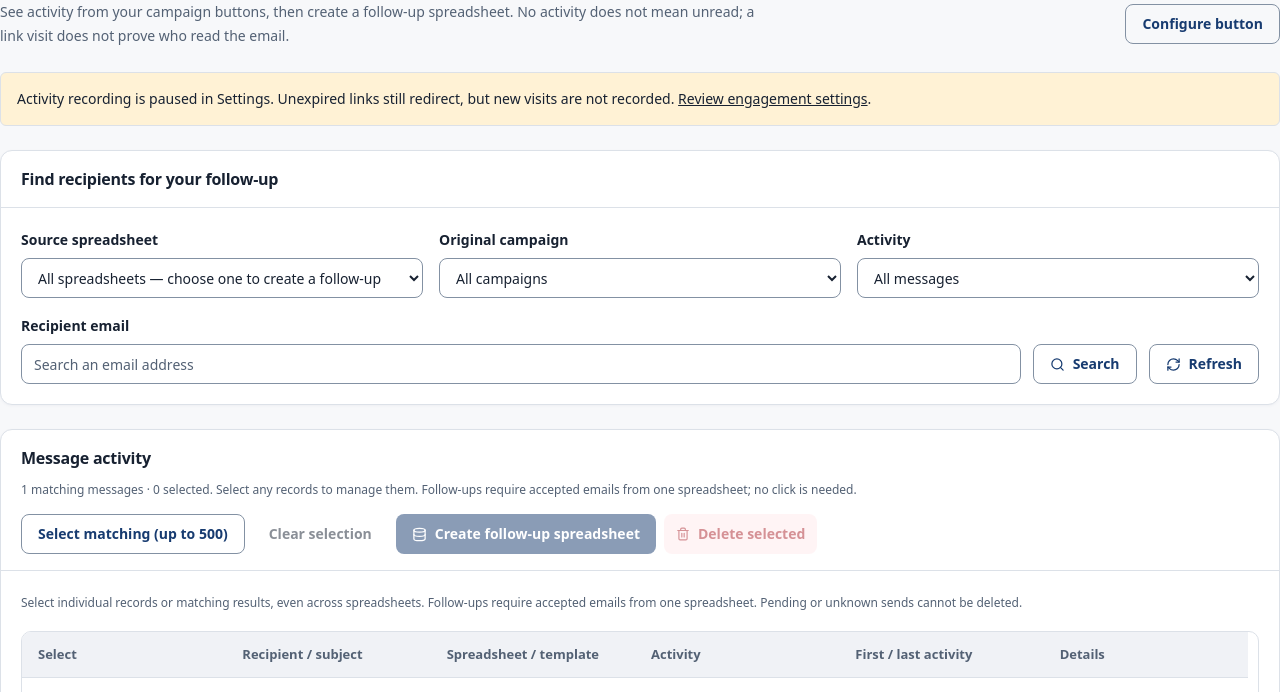
Test: simple engagement UI › separates suspected-only activity, excludes failed messages from selection and clears selection on filter change
Expected: the text "Activity recording is paused in Settings" is shown, [17,89,678,108]
Select "Contacts" in the dropdown labelled "Source spreadsheet": point(222, 278) [21,258,423,298]
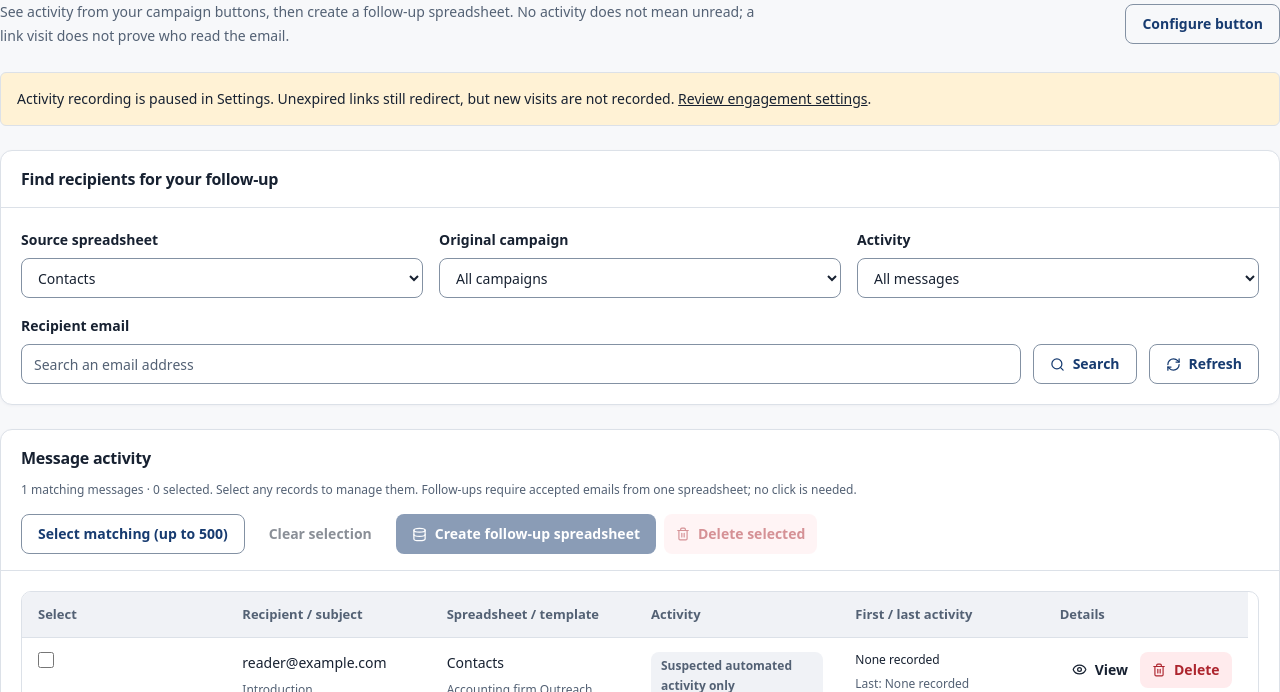
Click the checkbox named "Select reader@example.com, message 11111111-1111-4111-8111-1": point(46, 660) [38,652,54,668]
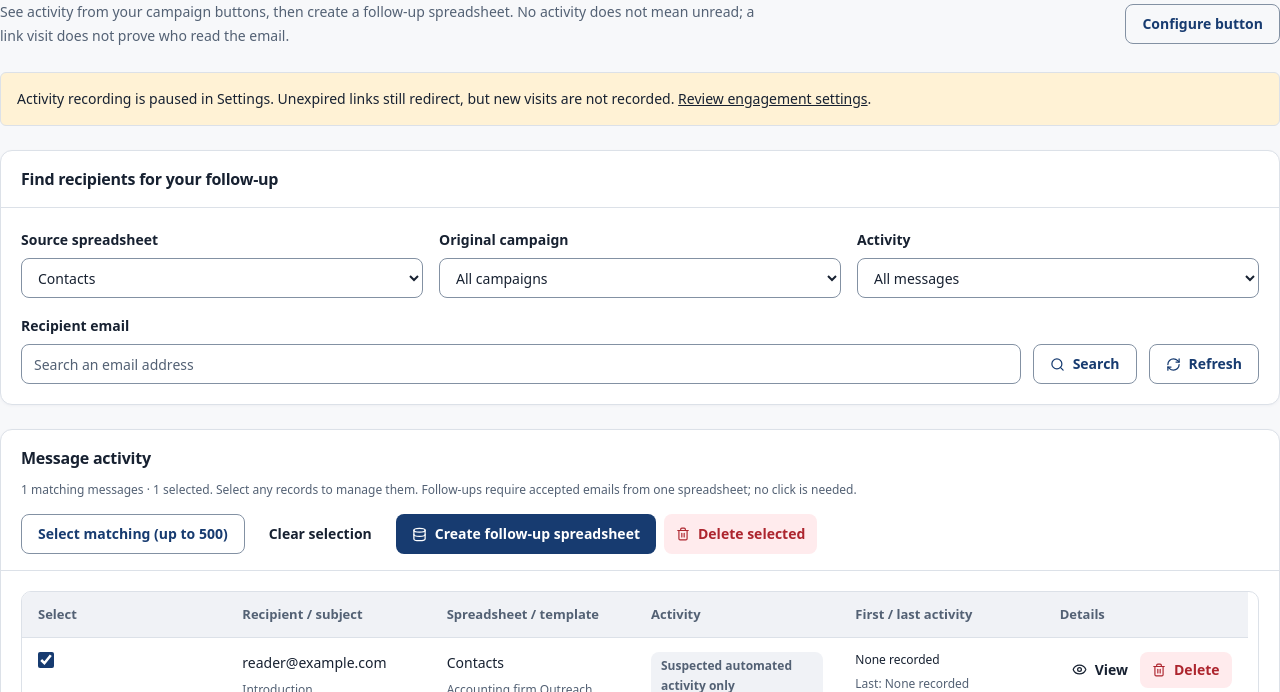
Select "Includes suspected automated activity" in the dropdown labelled "Activity": point(1058, 278) [857,258,1259,298]
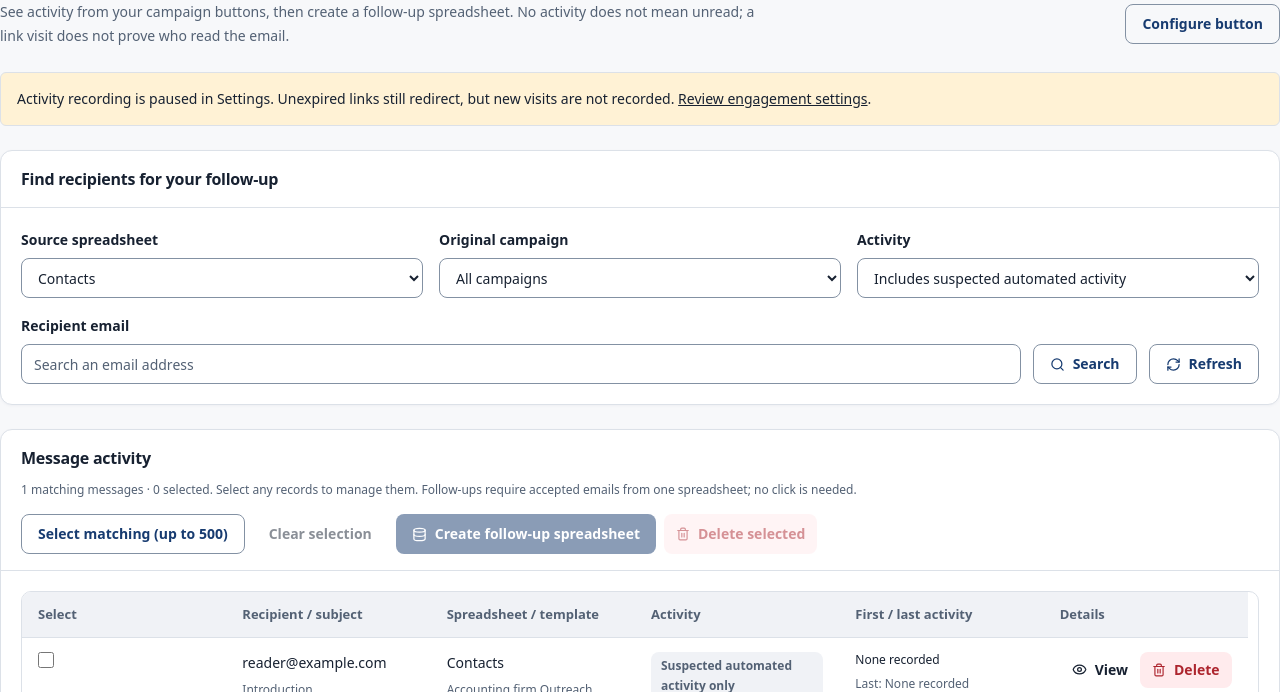
Now the button "Create follow-up spreadsheet" is disabled, box [396,514,656,554]
